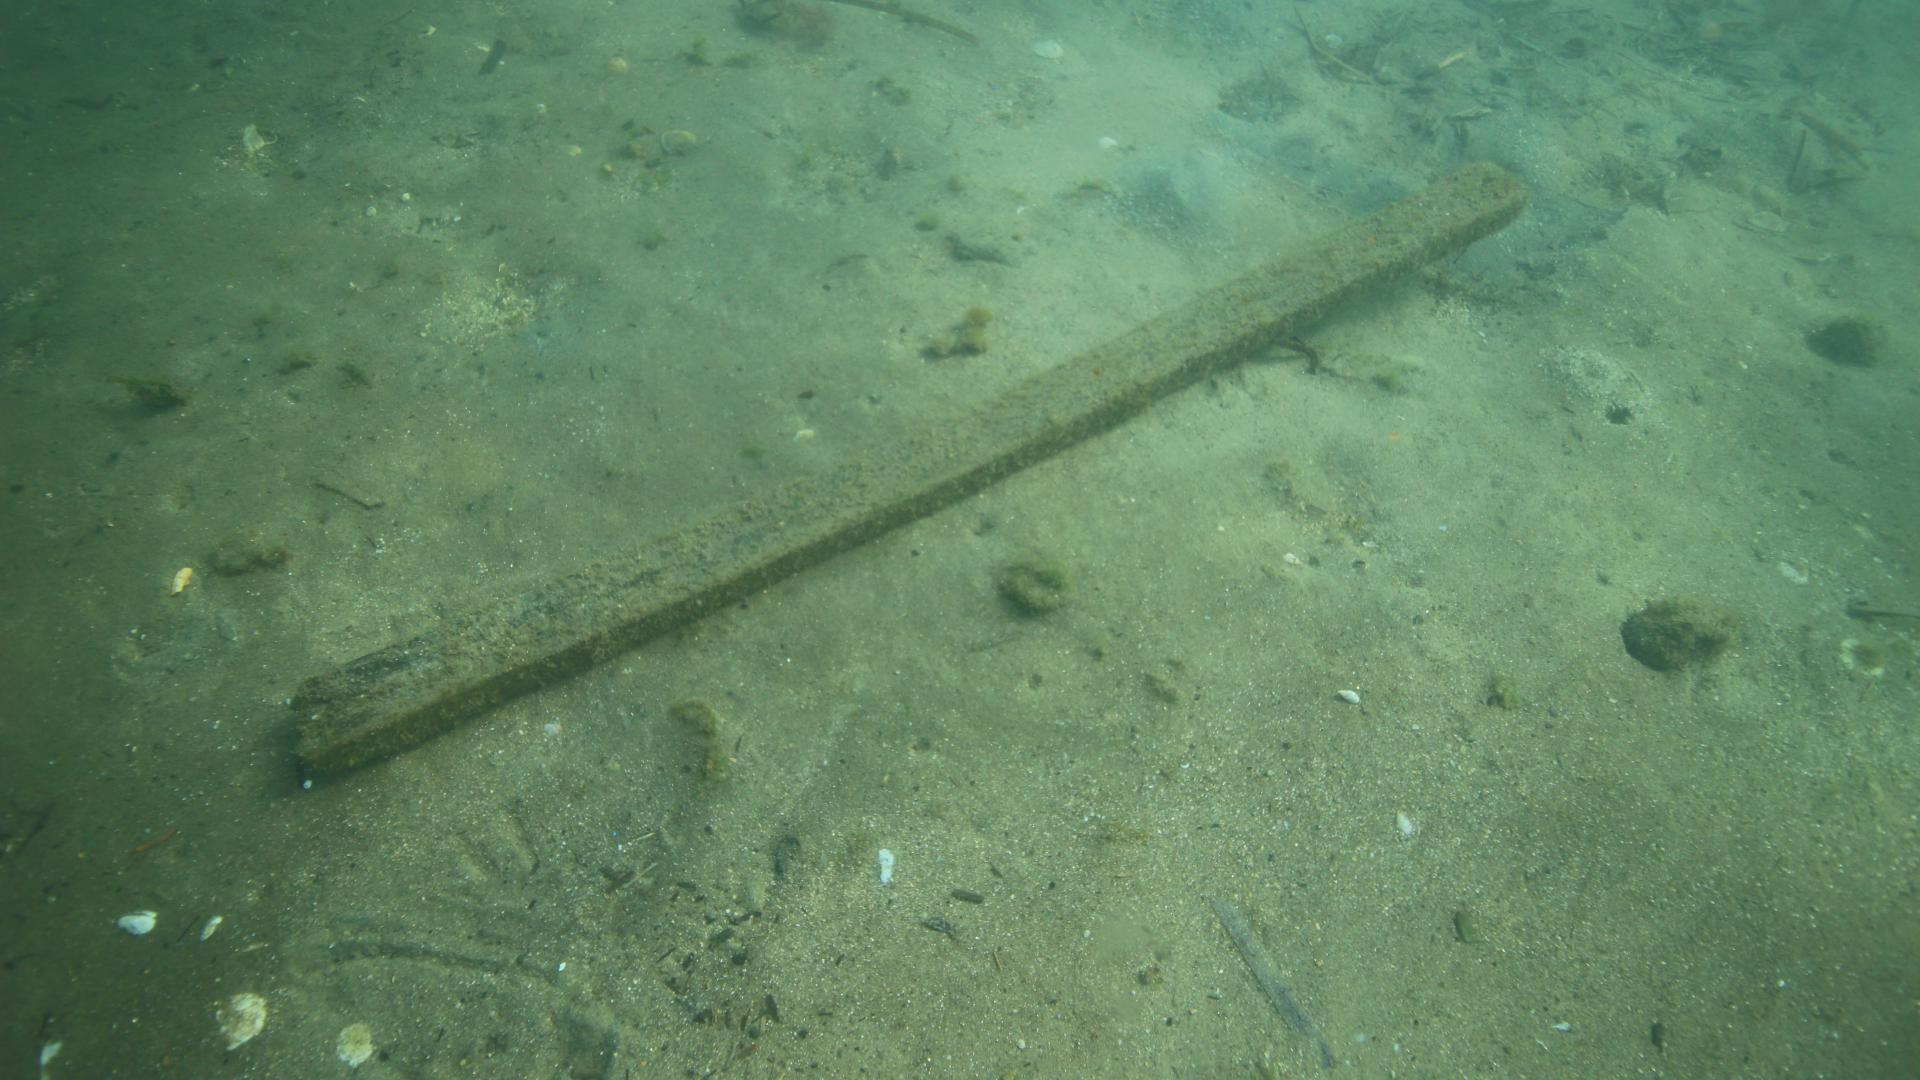wood: (284, 162, 1526, 782)
